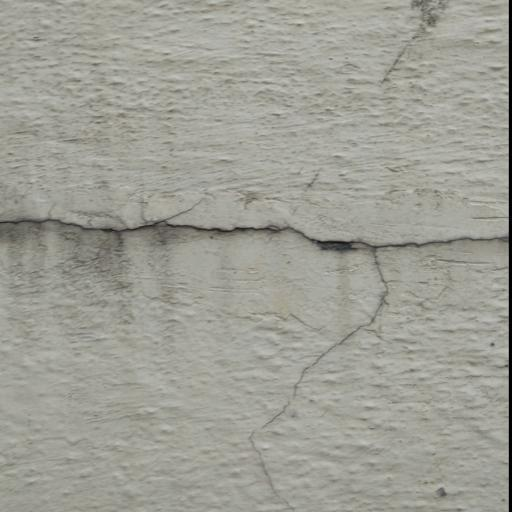minor_crack: (244, 216, 402, 512), (0, 184, 512, 274)
